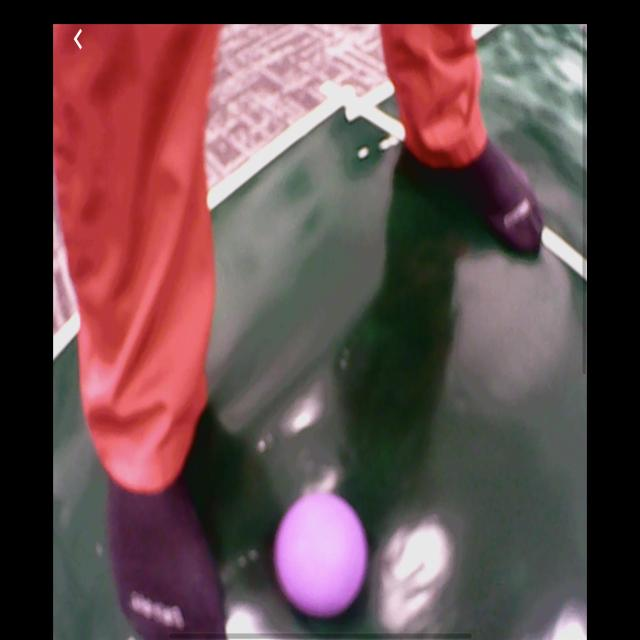ball: (273, 490, 371, 619)
